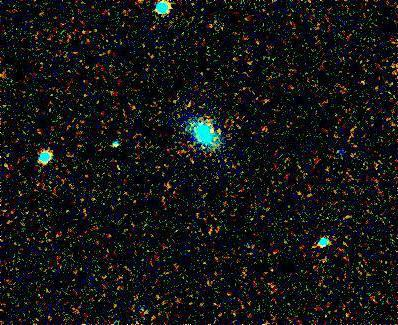star: (200, 114, 230, 144)
